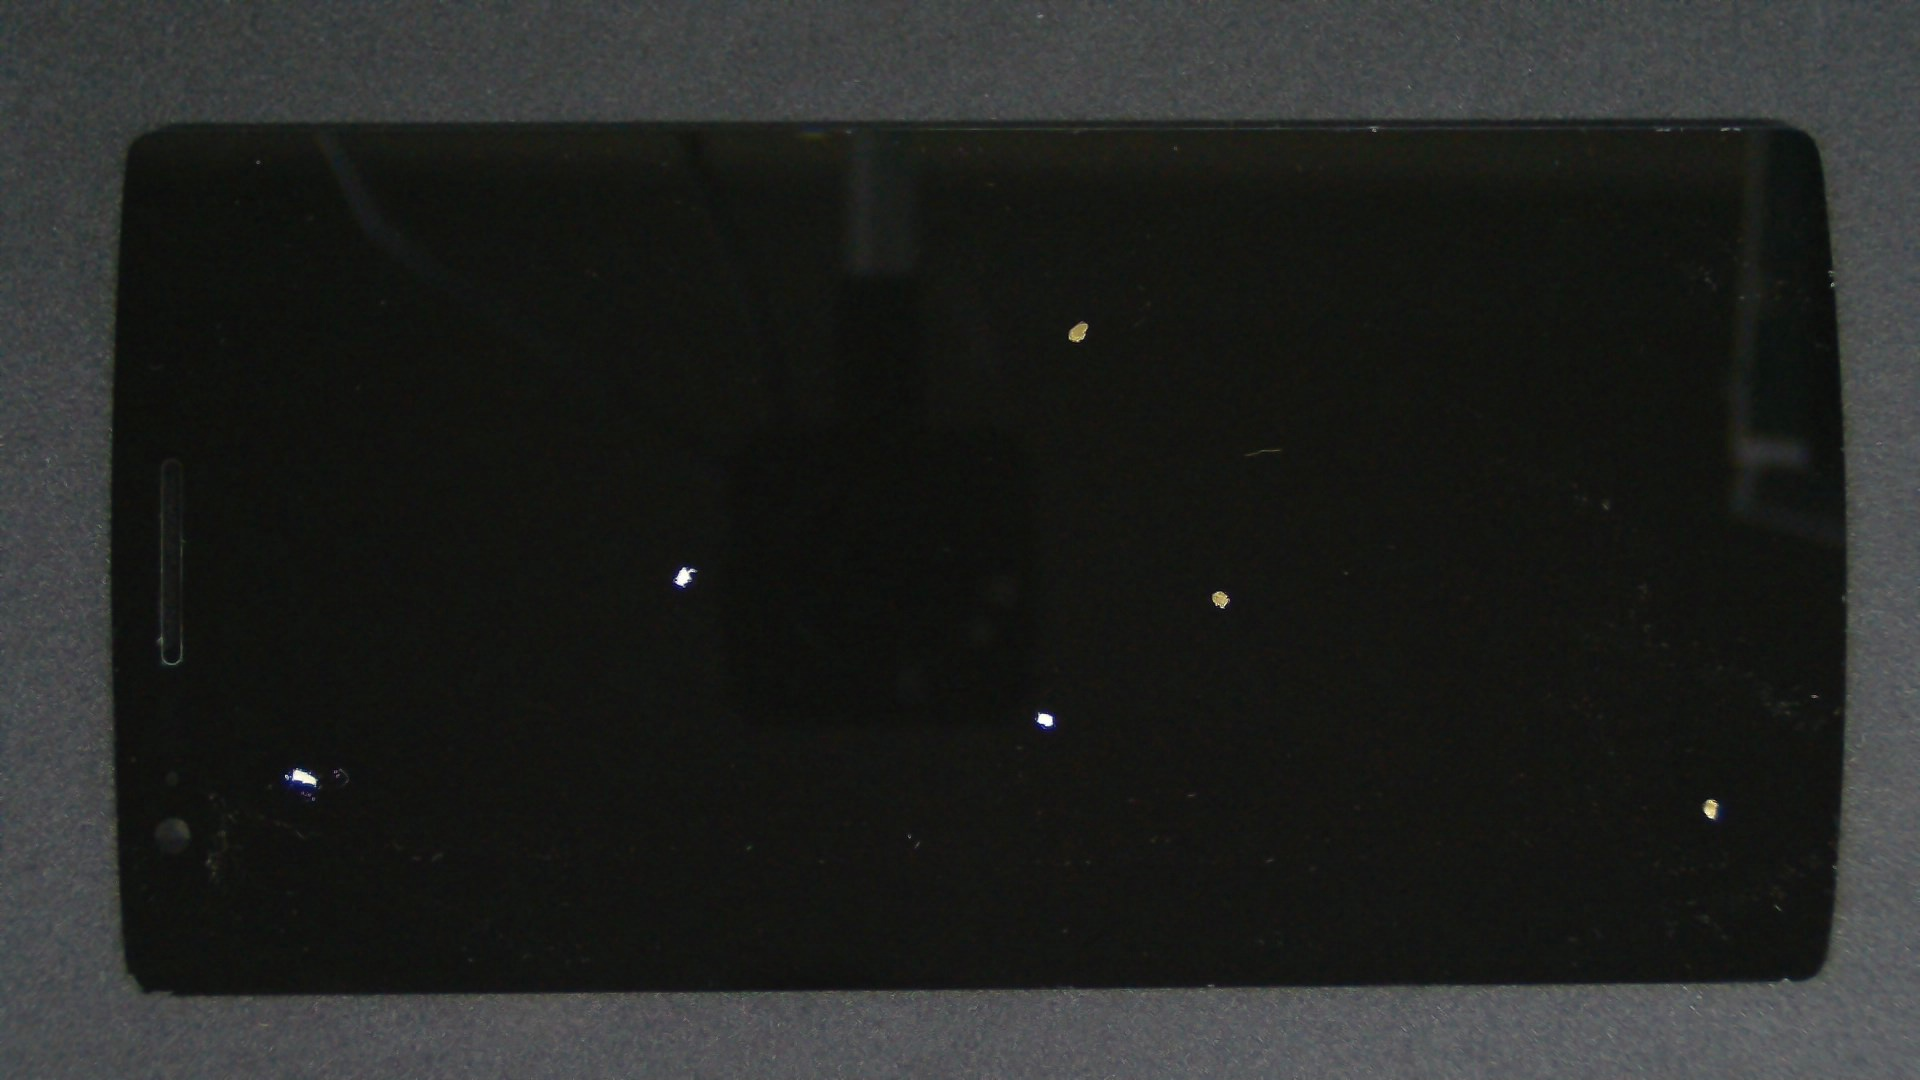oil: (520, 355, 1555, 1065), (857, 398, 1920, 1080), (611, 293, 1826, 884), (343, 281, 1023, 848), (545, 160, 1631, 480), (145, 381, 436, 1080)
